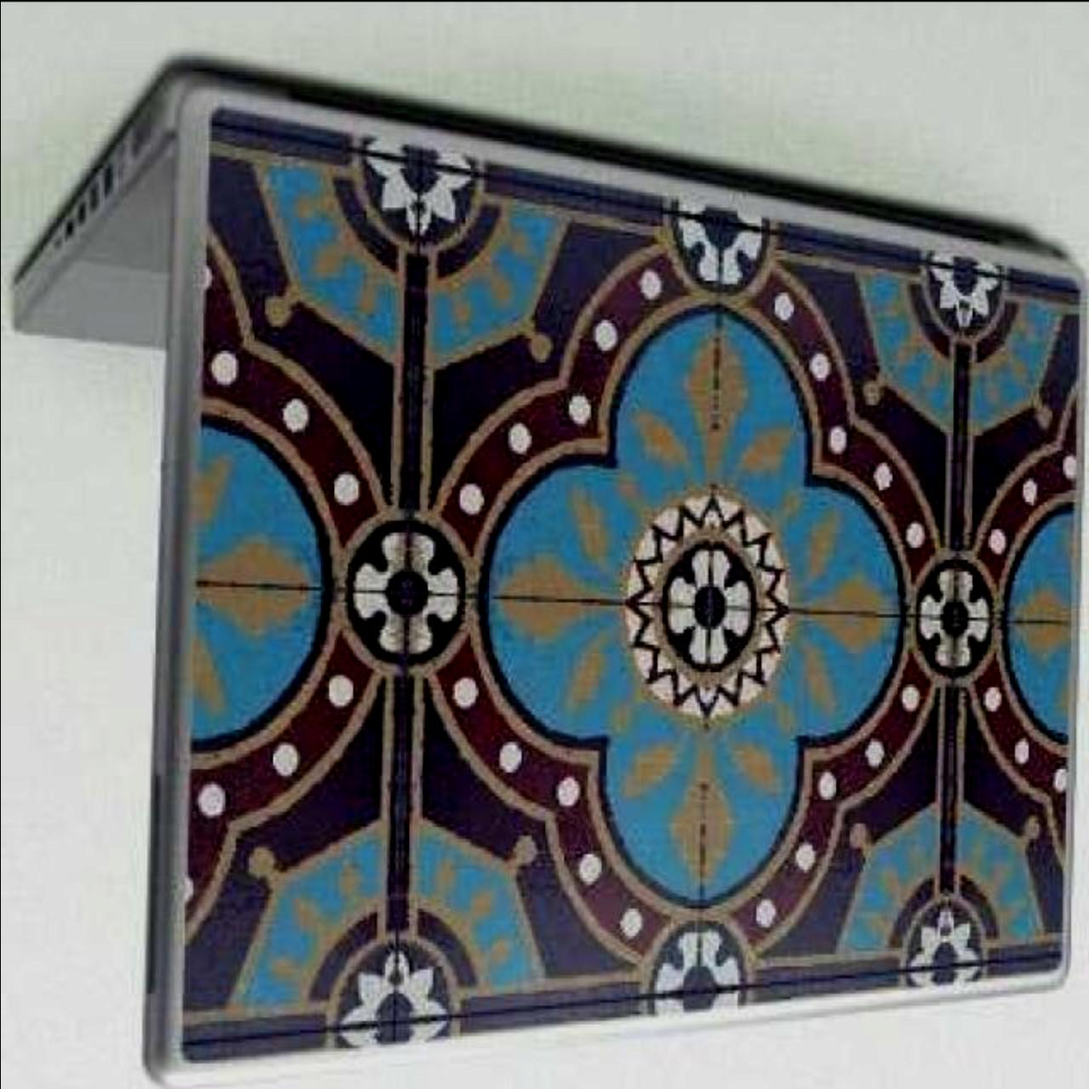laptop: (7, 68, 1089, 1082)
